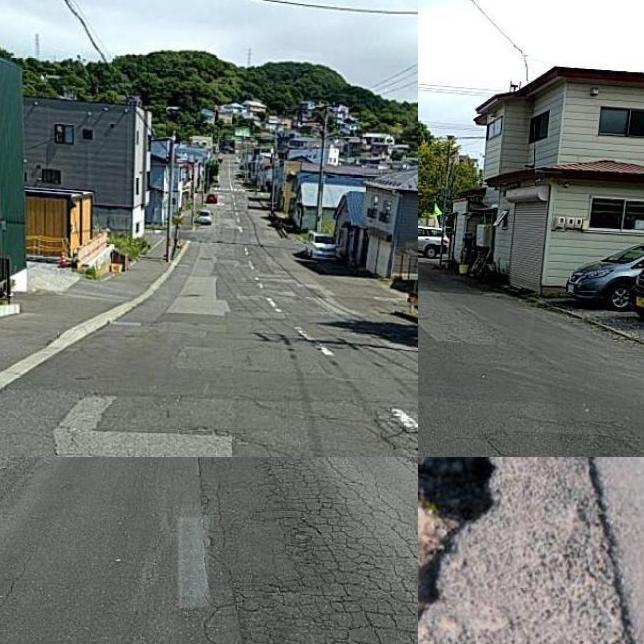Pinggir: (418, 457, 546, 644)
Retak Buaya: (269, 457, 418, 644)
